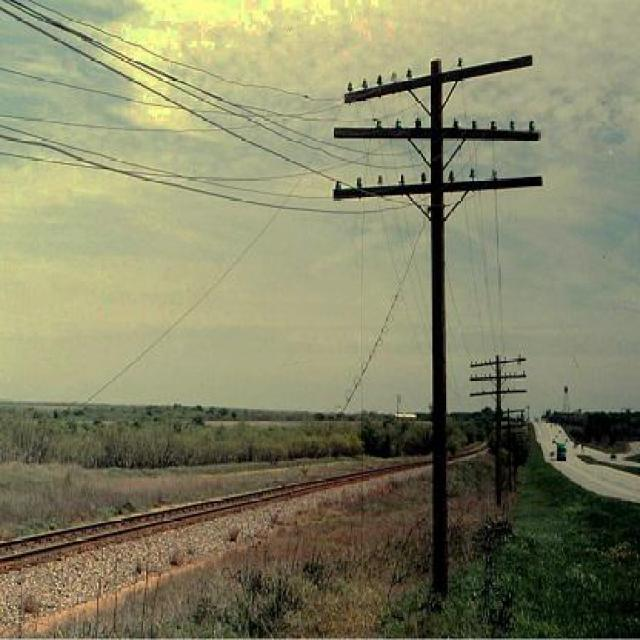crossarm: (343, 55, 537, 105), (332, 172, 546, 200), (334, 122, 543, 143)
pole: (431, 58, 460, 594)
wire: (1, 6, 373, 200), (261, 206, 439, 528), (2, 129, 434, 219), (19, 1, 359, 109)
